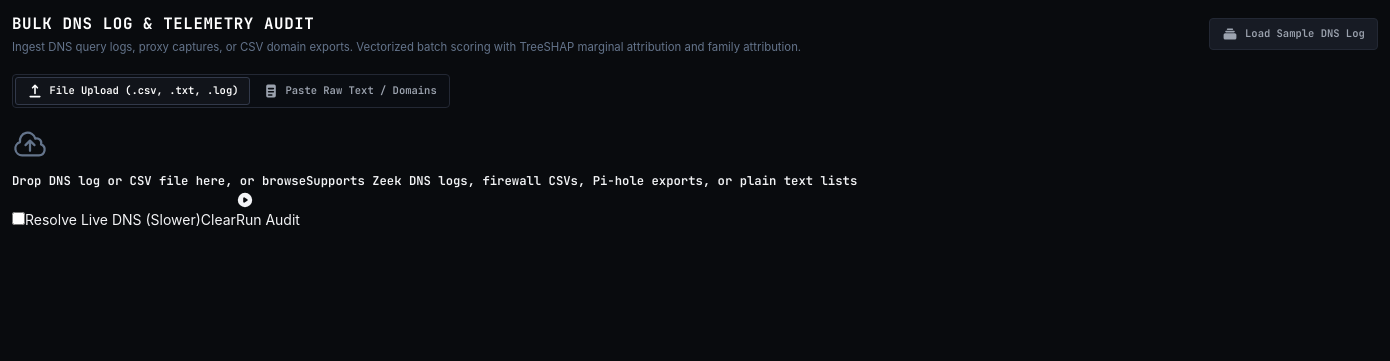
BulkAudit Component › loads sample DNS log and parses domains
The image size is (1390, 361).
Step 1. Click the button "Load Sample DNS Log" → (1293, 34), box [1209,18,1378,50]
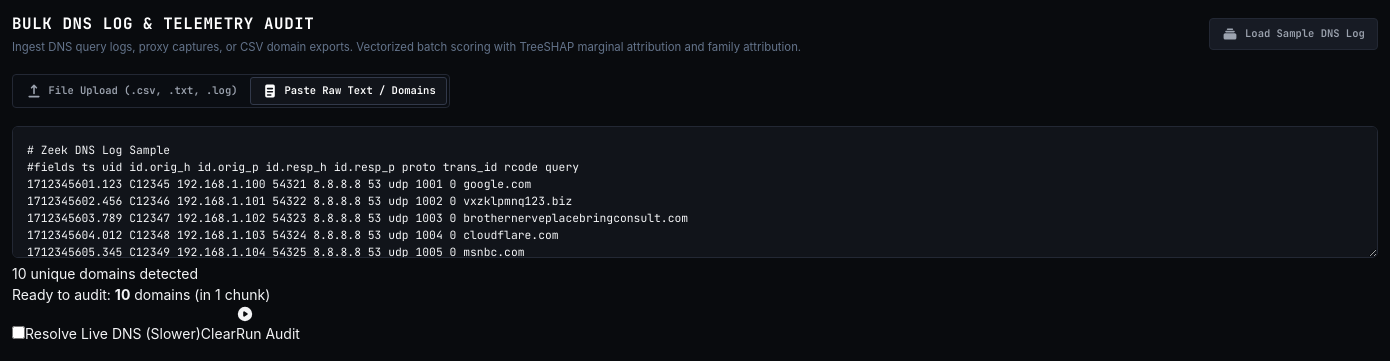
Now the text "10 unique domains detected" is shown, box [12,265,198,282]
Now the text "Ready to audit: 10 domains (in 1 chunk)" is shown, box [12,286,270,303]
Now the button "Run Audit" is enabled, box [236,305,300,344]
